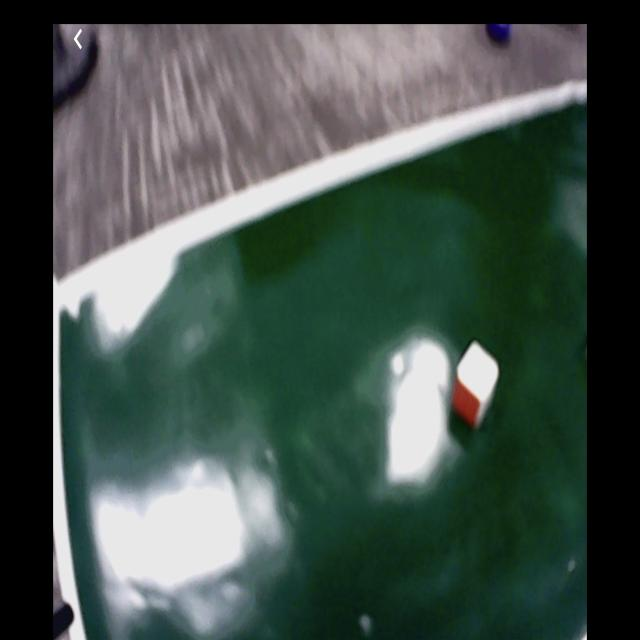ball: (485, 24, 512, 47)
